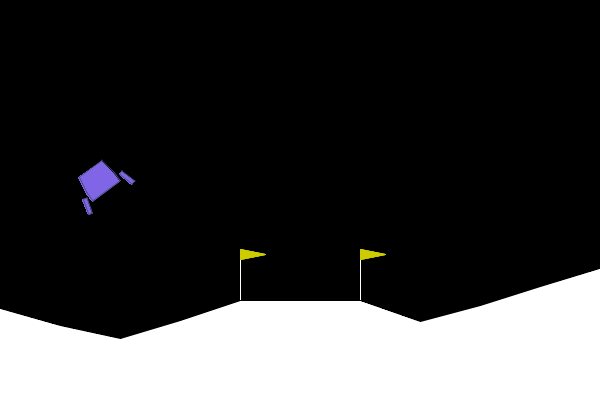lander: (65, 150, 137, 218)
